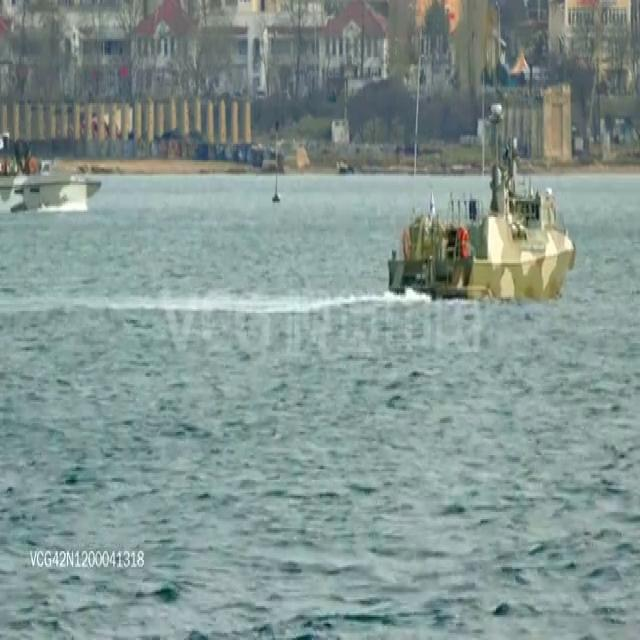houseboat: (379, 106, 574, 299), (0, 124, 101, 215)
